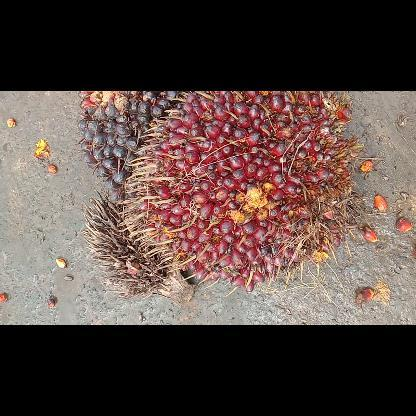Janjang kosong: (81, 188, 195, 306)
TBS masak: (117, 90, 362, 296)
TBS mentah: (77, 91, 181, 201)
